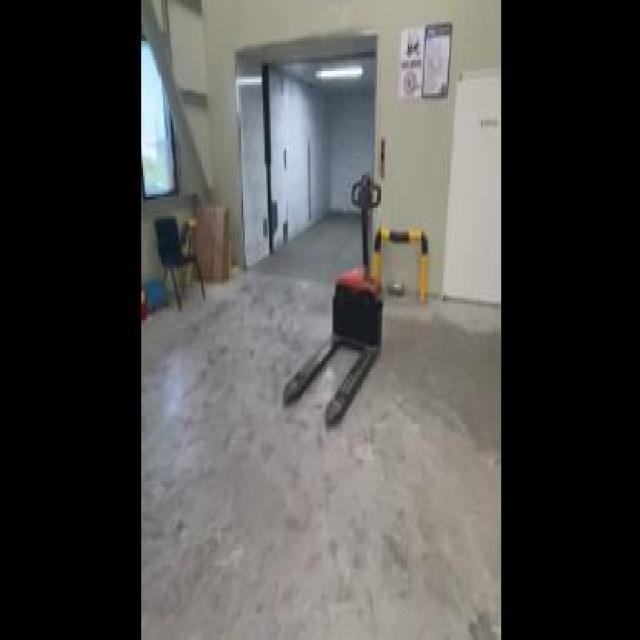robot: (275, 175, 380, 429)
